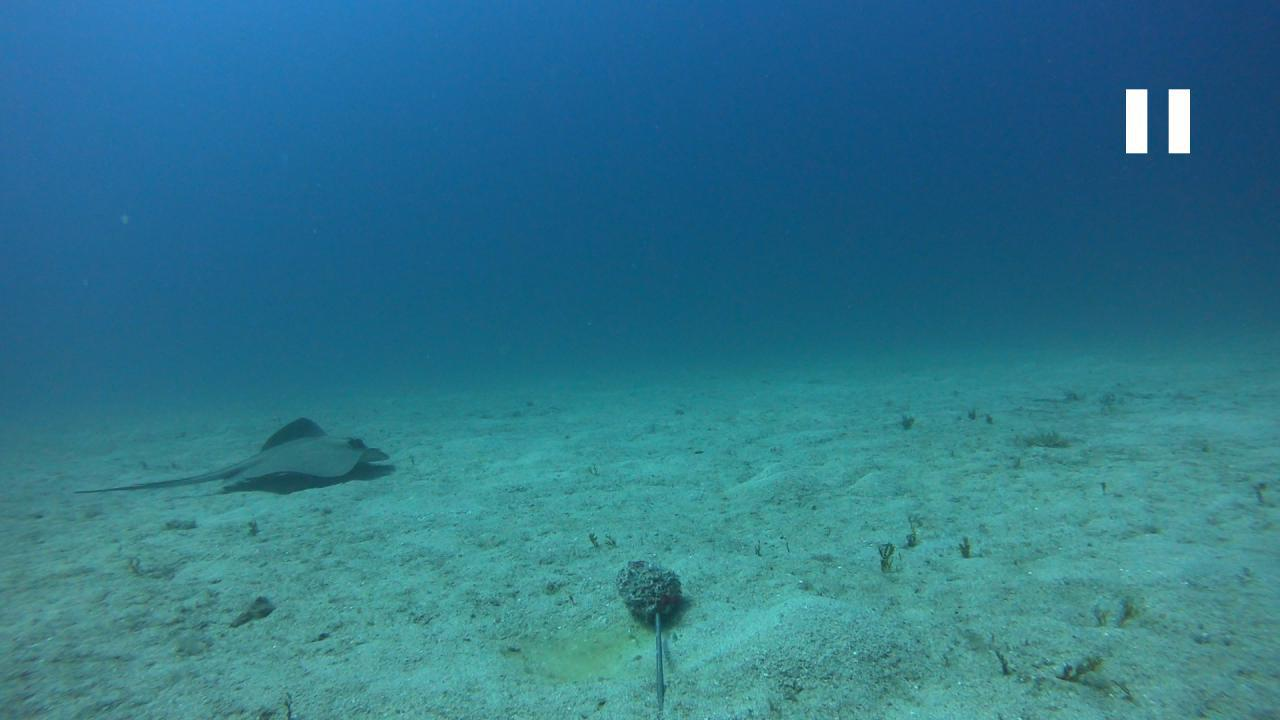dasyatis: (72, 414, 390, 492)
